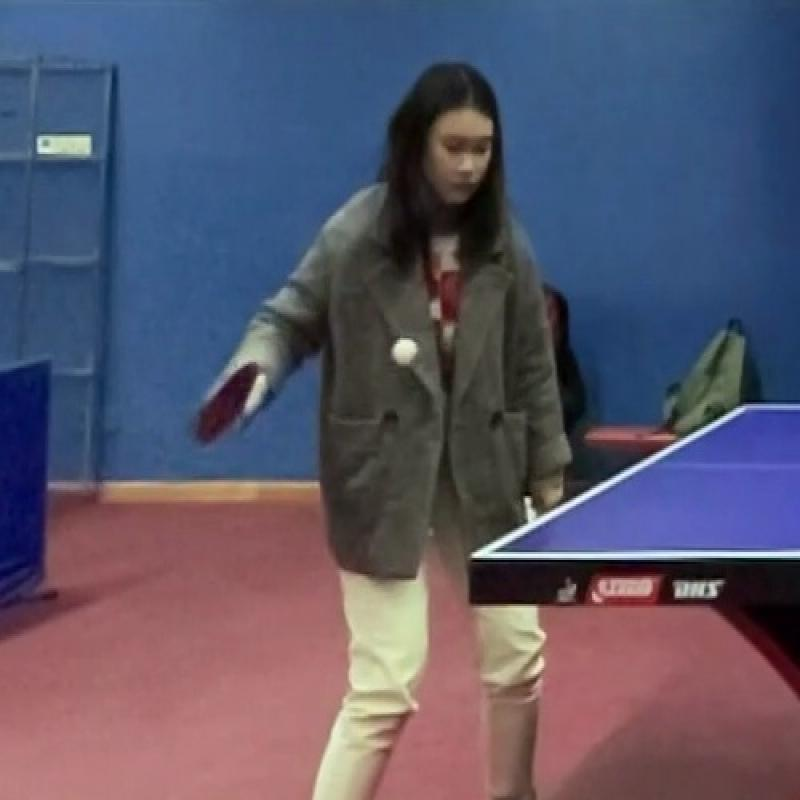bats: (180, 353, 273, 458)
